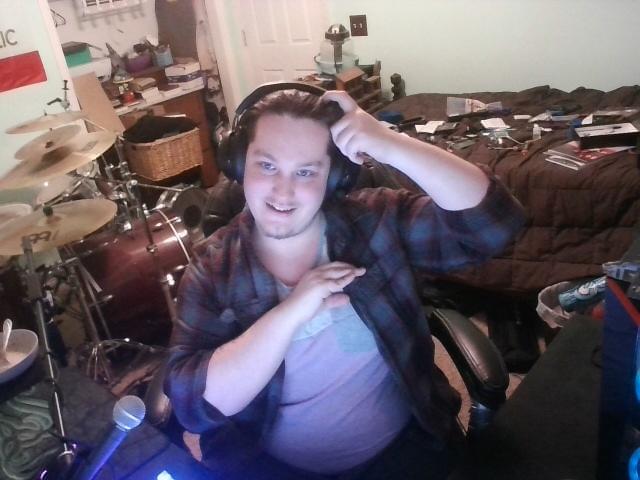police: (267, 251, 397, 335)
